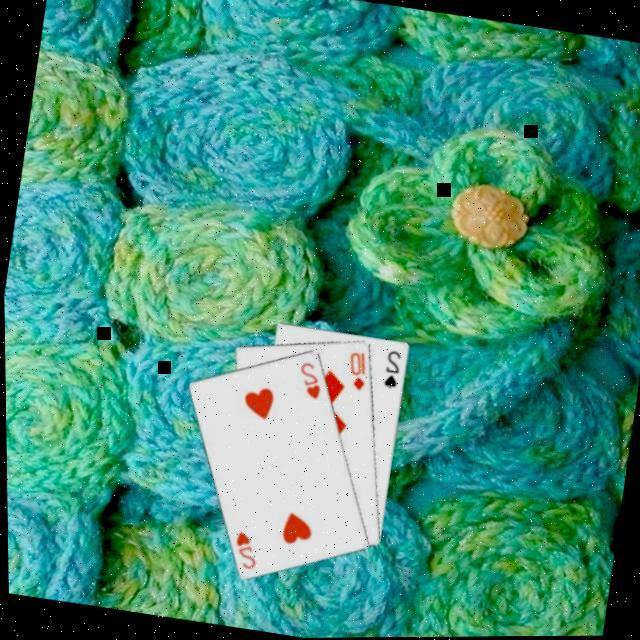10D: (340, 346, 372, 392)
2H: (290, 356, 326, 402), (226, 525, 262, 571)
2S: (378, 346, 404, 392)
